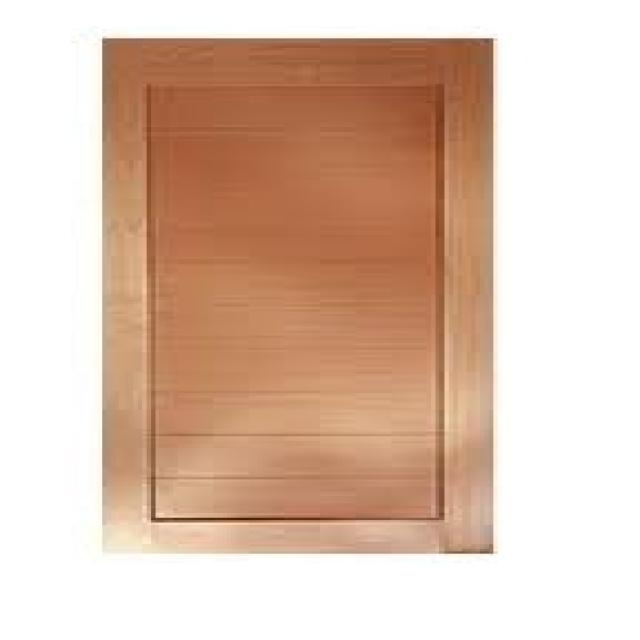door: (100, 37, 496, 555)
